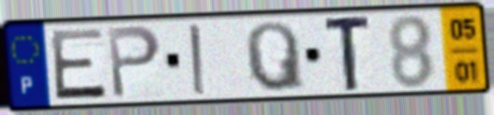8: (385, 11, 438, 91)
E: (47, 26, 110, 103)
I: (186, 22, 210, 98)
P: (104, 23, 164, 102)
Q: (242, 19, 308, 94)
T: (323, 12, 374, 95)
